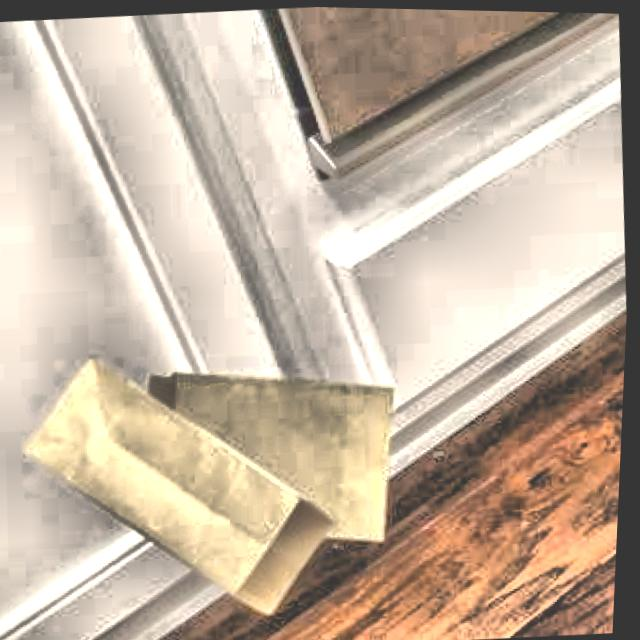Paper-bag: (0, 320, 365, 640), (140, 338, 444, 590)
